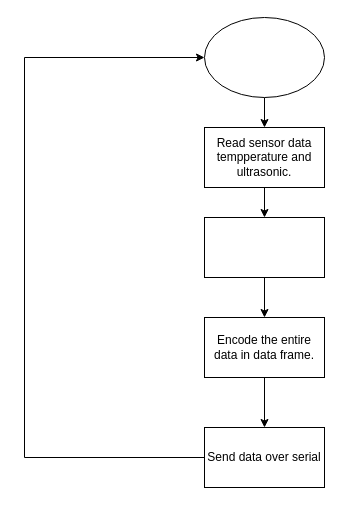
This 342x505 diagram has some shape labels left out. The centre of each missing label's shape, as x and y in pixels:
"Pass the Ultrasonic sensor data via a filter." goes at point (264, 247).
"Start" goes at point (264, 57).
